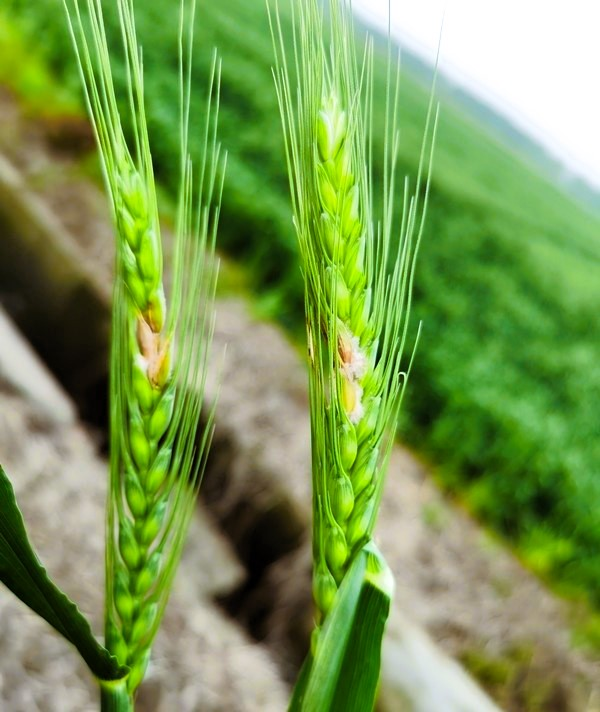Wheat scab: (283, 200, 415, 480), (92, 237, 202, 483)
